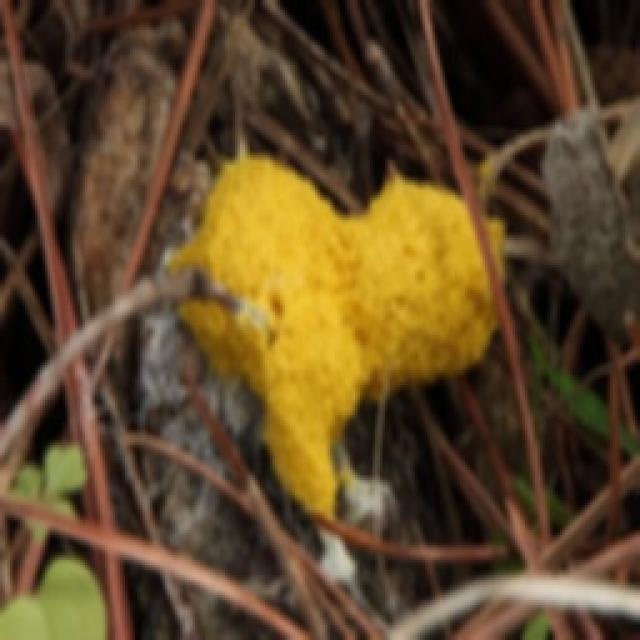Dog_vomit_slime_mold: (128, 129, 537, 579)
